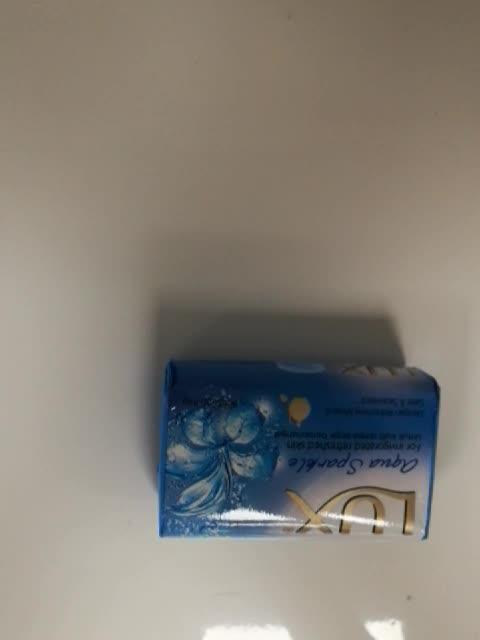soap: (155, 356, 443, 546)
